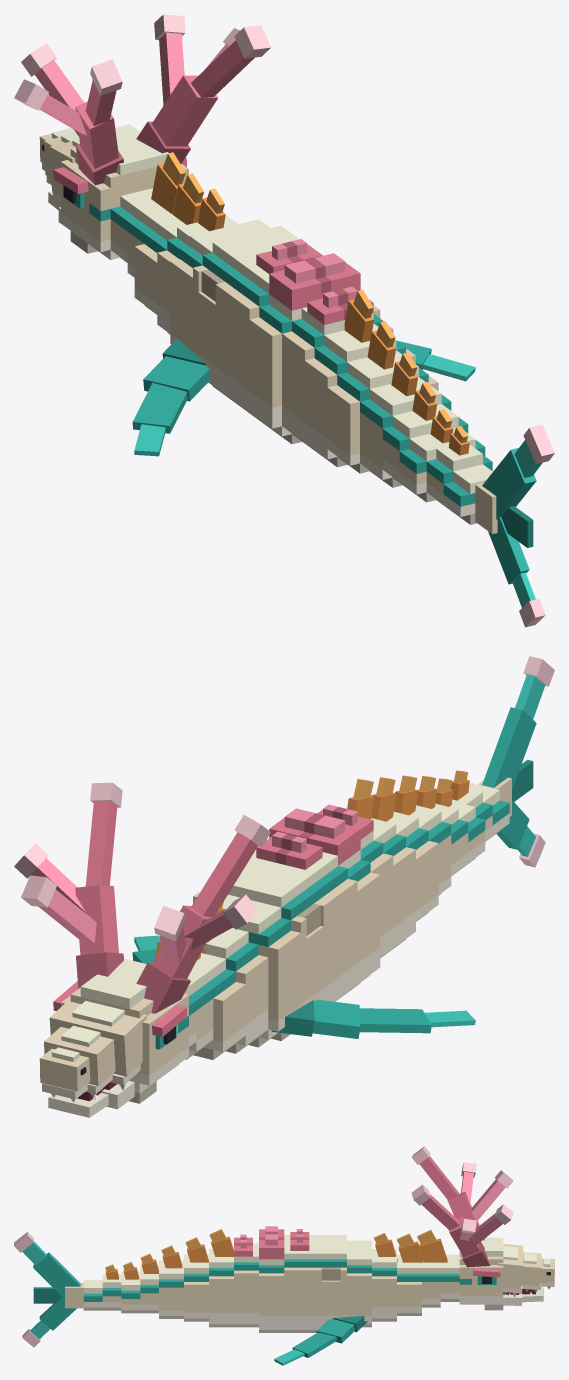
File: CoralDragon.obj
3 renders of one model, top to bottom at view 1: azimuth 30°, elevation 25°; view 2: azimuth 150°, elevation 25°; view 3: azimuth 270°, elevation 25°, orthographic. The views are drawn at different scales.
Visible parts, largest first — view 1: Head, S8, Tail, S7, S6, S10, S11, S9, FinL, S12, S3, S5 (+8 smaller); view 2: Head, S7, S6, Tail, S8, FinL, S5, S4, S10, S3, S11, S9 (+8 smaller); view 3: Head, Tail, S7, S6, S8, S10, S9, S4, S5, S11, S3, S12 (+8 smaller).
Boxes of the visible parts, x1,y1,x2,y2 form: Head: (14, 14, 270, 259); S8: (249, 253, 380, 444); Tail: (475, 424, 554, 627); S7: (221, 239, 322, 427); S6: (193, 225, 299, 406); S10: (305, 290, 415, 467); S11: (327, 321, 438, 473); S9: (282, 286, 393, 450); FinL: (132, 339, 209, 456); S12: (360, 352, 451, 487); S3: (134, 173, 203, 314); S5: (170, 219, 270, 351); Head: (14, 782, 270, 1103); S7: (248, 831, 357, 1001); S6: (193, 861, 329, 1040); Tail: (478, 656, 554, 867); S8: (269, 808, 380, 999); FinL: (271, 999, 475, 1038); S5: (222, 894, 300, 1047); S4: (201, 901, 268, 1053); S10: (347, 779, 415, 955); S3: (191, 952, 245, 1059); S11: (371, 777, 438, 921); S9: (317, 804, 393, 957); Head: (411, 1146, 554, 1310); Tail: (14, 1232, 83, 1347); S7: (284, 1229, 315, 1332); S6: (315, 1235, 346, 1332); S8: (259, 1226, 284, 1332); S10: (209, 1229, 233, 1327); S9: (234, 1234, 258, 1327); S4: (372, 1233, 397, 1321); S5: (347, 1240, 371, 1327); S11: (184, 1237, 208, 1321); S3: (397, 1233, 423, 1315); S12: (159, 1245, 183, 1318).
Size of the model in its own units: 15.64 by 14.25 by 38.88.
1 material, 1 textured.
